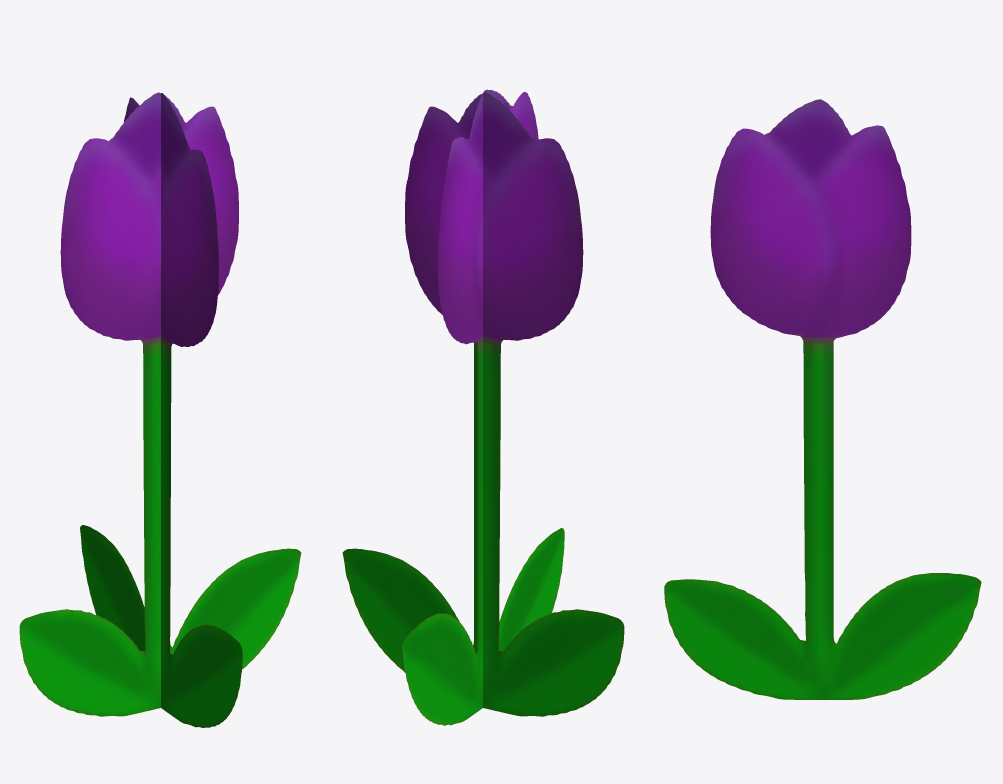
File: Flower04_a03.FBX
The picture shows the model from 3 angles, left to right: view 1: azimuth 30°, elevation 25°; view 2: azimuth 150°, elevation 25°; view 3: azimuth 270°, elevation 25°; orthographic projection. The views are drawn at different scales.
Visible parts, largest first — view 1: Flower04_a03; view 2: Flower04_a03; view 3: Flower04_a03.
Part boxes in pixels (x1,y1,x2,y2): Flower04_a03: (19, 92, 301, 727); Flower04_a03: (342, 89, 624, 725); Flower04_a03: (664, 99, 981, 699).
Bounding box in the file's own units: 39.49 × 81.27 × 39.49.
1 material, 1 textured.
